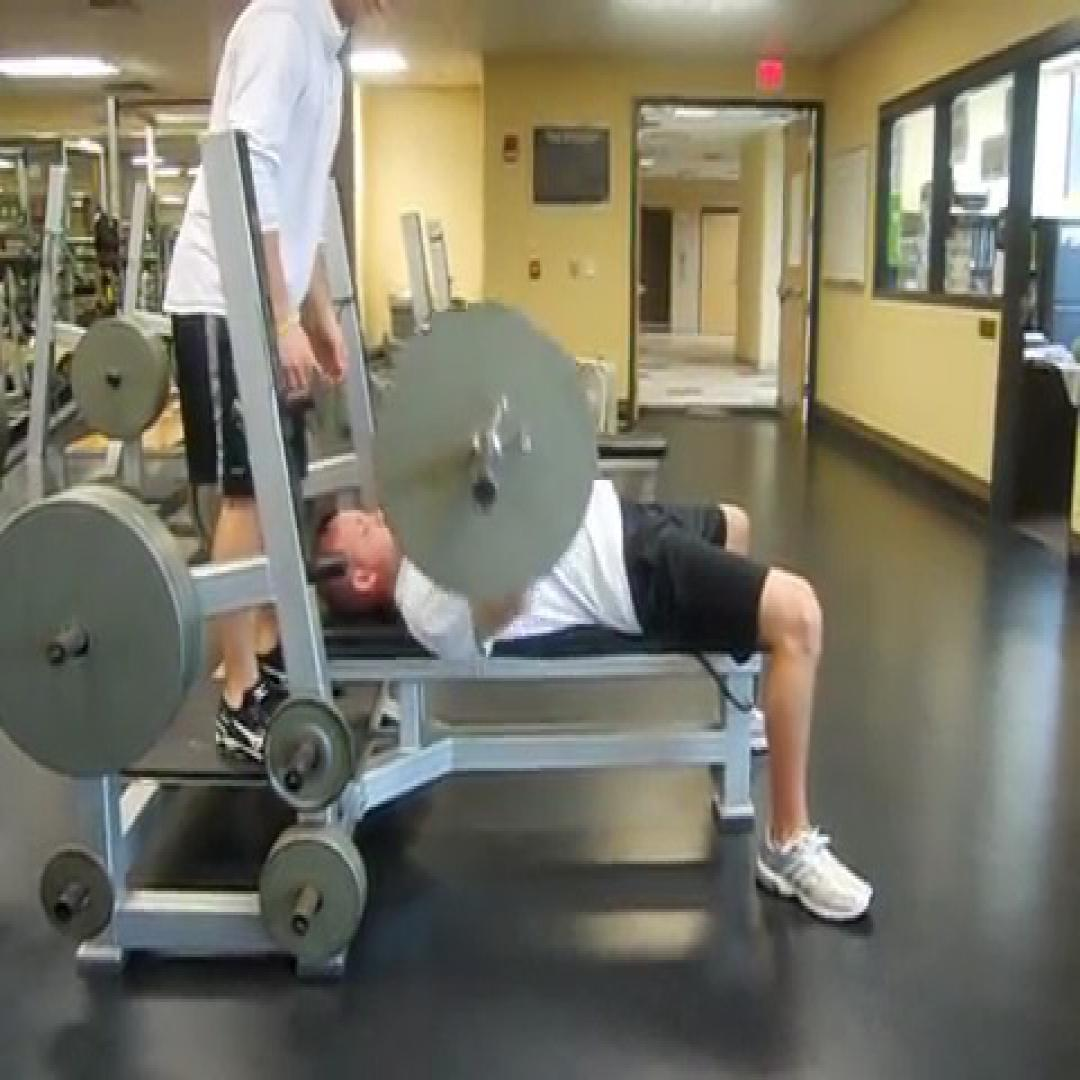Bar: (468, 474, 504, 516)
Barbell: (371, 306, 596, 600)
